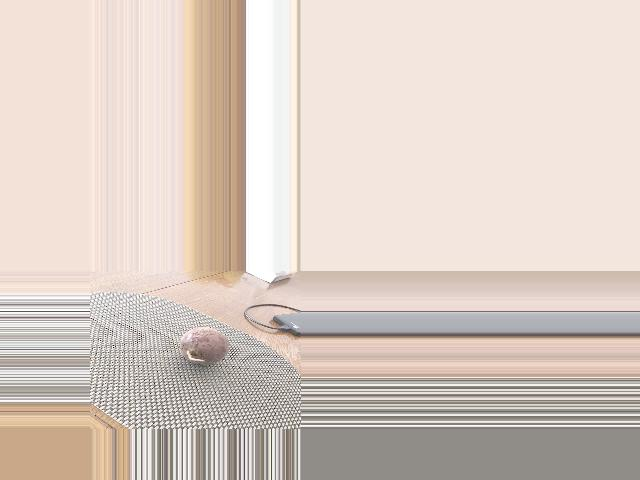beet: (180, 327, 229, 364)
